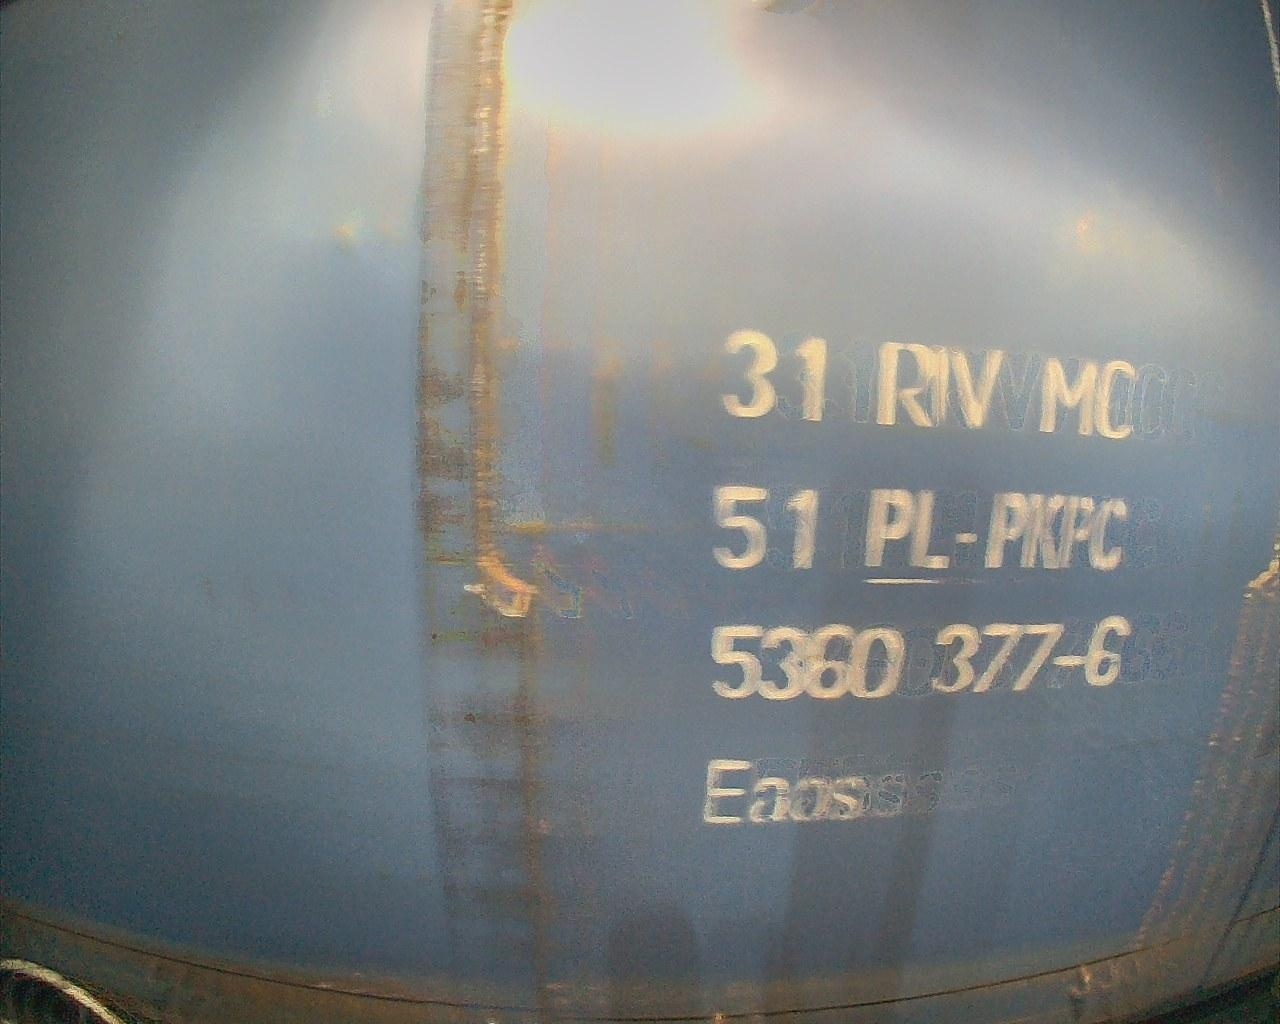UIC: (698, 324, 1134, 820)
